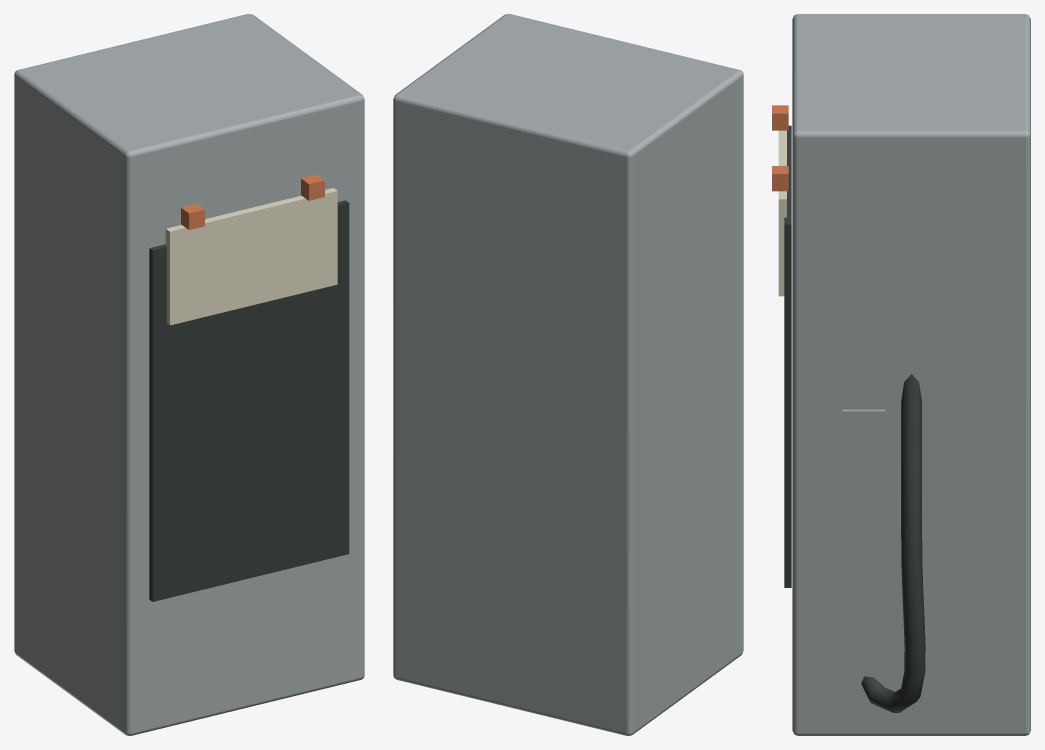
Rendered from roadside-survival-stops-single-hose-dispenser-c4863571__23532.glb.
The picture shows the model from 3 angles, left to right: view 1: azimuth 30°, elevation 25°; view 2: azimuth 150°, elevation 25°; view 3: azimuth 270°, elevation 25°; orthographic projection. The views are drawn at different scales.
Parts seen in each view (by area): view 1: single-hose-dispenser; view 2: single-hose-dispenser; view 3: single-hose-dispenser.
Part boxes in pixels (left/top/right/bottom): single-hose-dispenser: left=14, top=14, right=364, bottom=735; single-hose-dispenser: left=393, top=14, right=743, bottom=735; single-hose-dispenser: left=772, top=14, right=1030, bottom=735.
Bounding box in the file's own units: 0.7276 × 1.4 × 0.5425.
